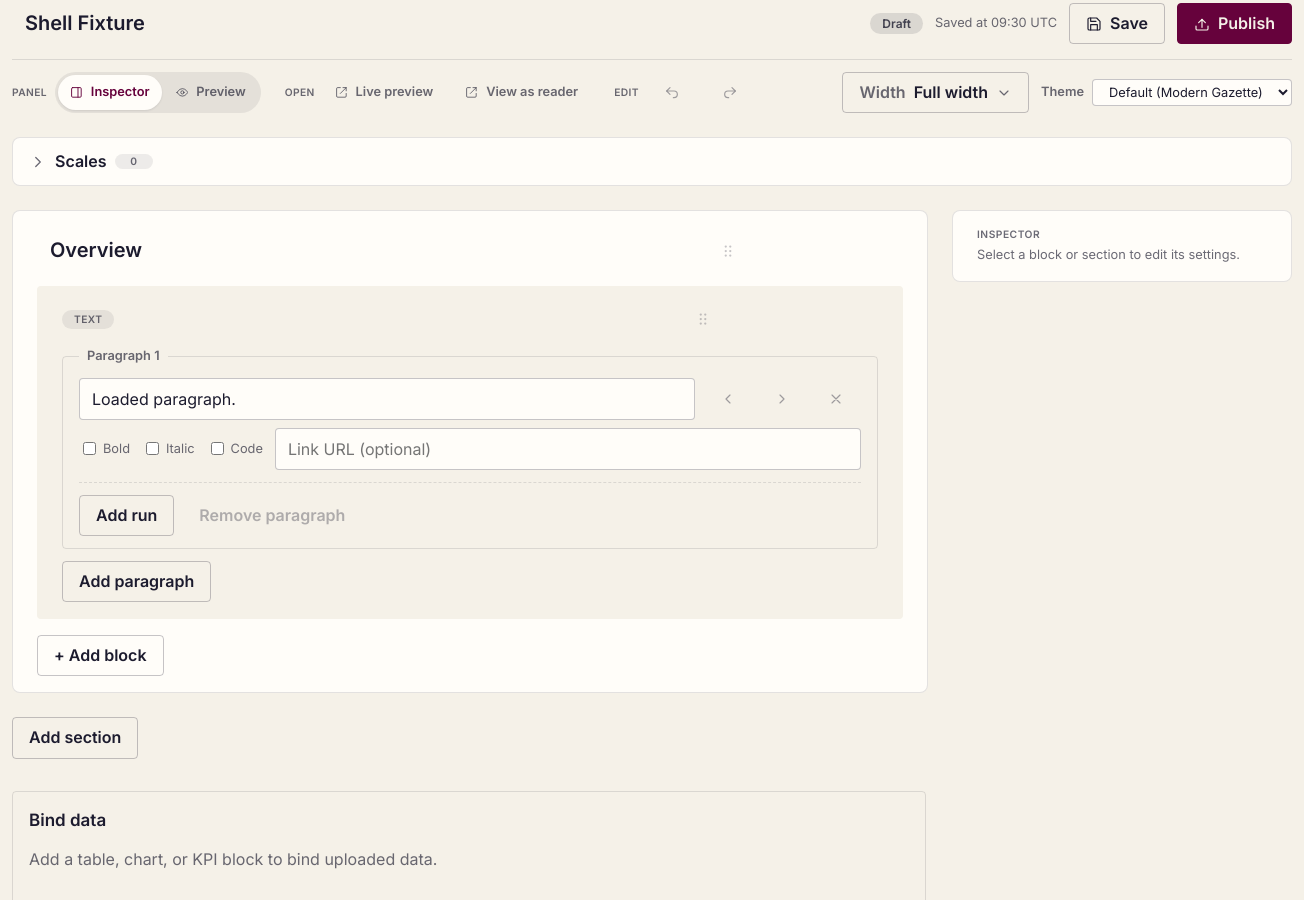
Scenario: ReportEditor shell › adds a section to the working copy from a single validated path
This screenshot has width=1304, height=900.
Step 1. Click the button "Add section" → [75, 738], box [12,718,138,759]
(page scrolled)
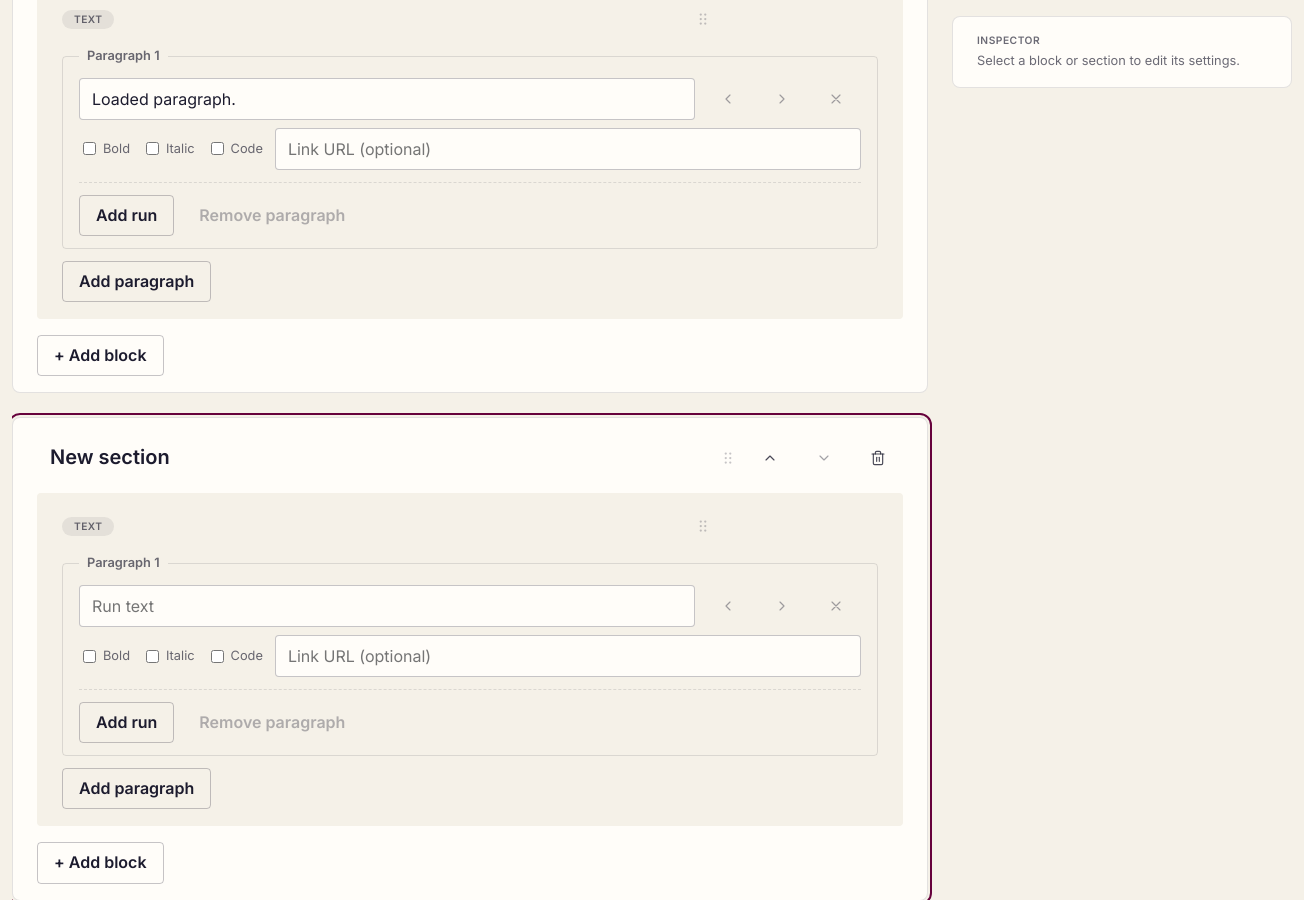
Now the element named "Section: New section" is shown, box [12,418,928,899]
